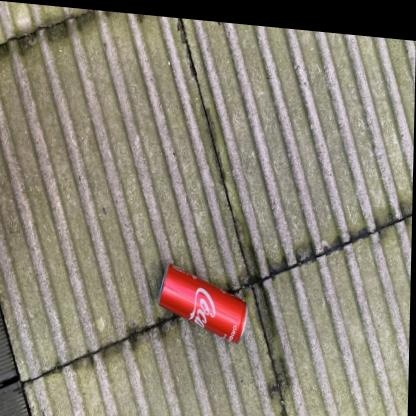trash: (160, 264, 246, 342)
